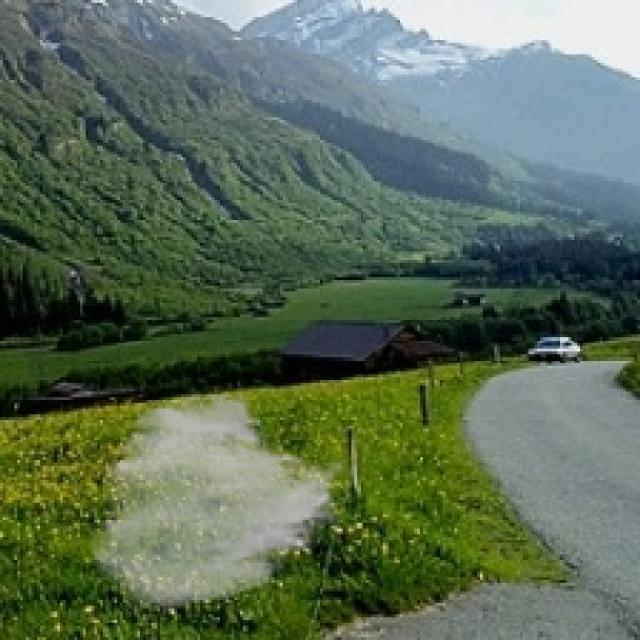Smoke: (86, 388, 352, 612)
